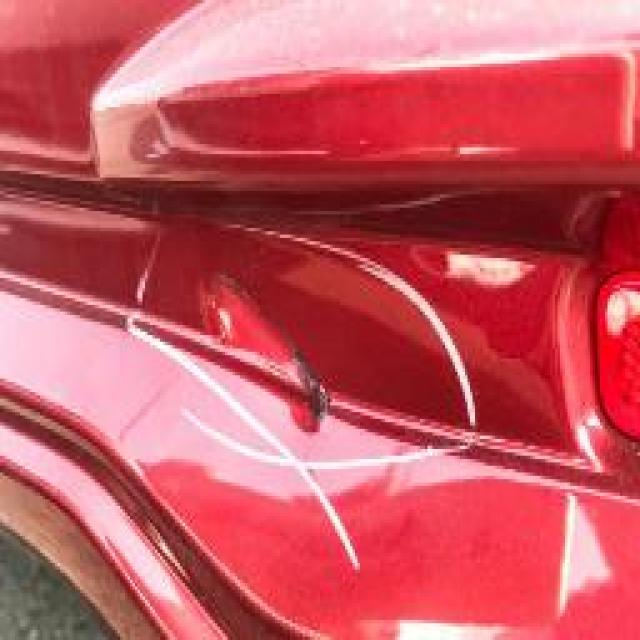Bumper: (38, 40, 638, 640)
